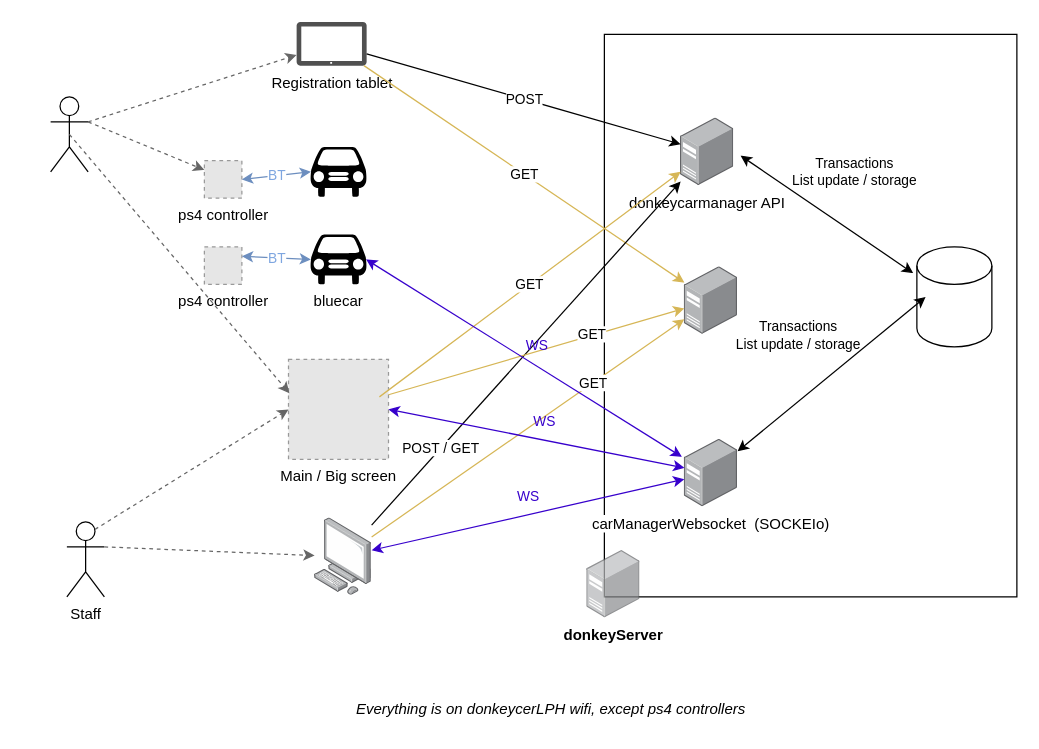
Image size: 1039x749. Some labels were removed from this diagram. Grey dashed boxes stand in for pictures. The shapes that lost their labels are listed below. From the top down, each one's centre as x and y in pixels, then its label:
At point 68,134: "Visitor / Player".
At point 338,171: "dababycar".
At point 710,300: "carManagerInterface (static assets)".
At point 954,296: "Postgres".
At point 342,556: "Staff computer".
